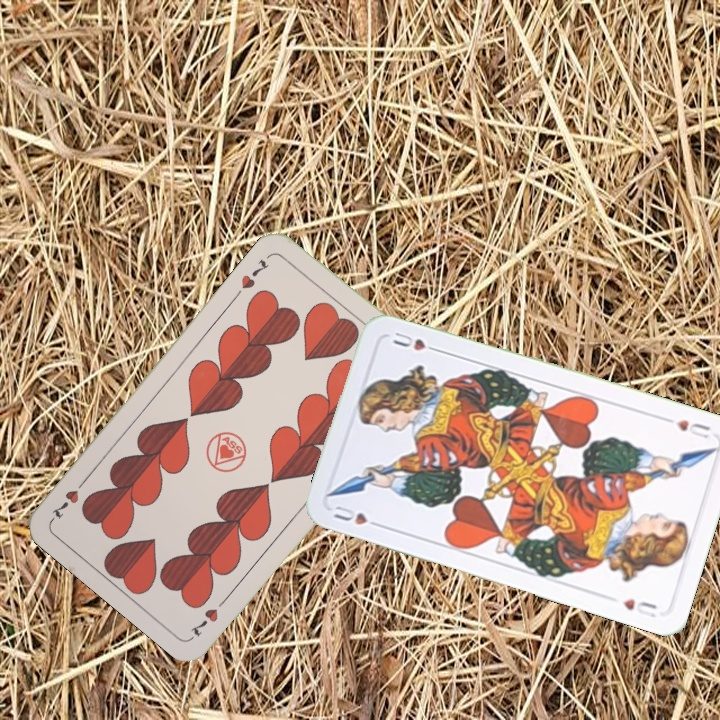H7: (186, 592, 231, 640), (237, 255, 272, 292)
HU: (328, 501, 386, 531), (660, 413, 713, 441)
